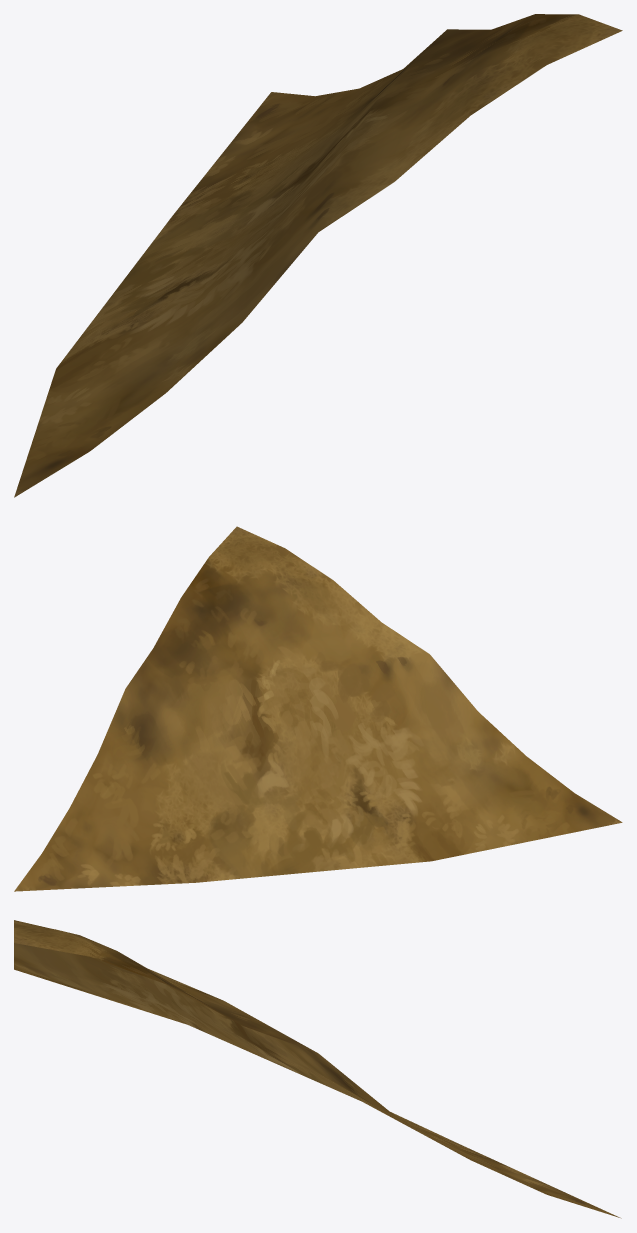
Rendered from Slope_Corner_006.fbx.
3 views of the same model, one above another, from view 1: azimuth 30°, elevation 25°; view 2: azimuth 150°, elevation 25°; view 3: azimuth 270°, elevation 25° (orthographic). The views are drawn at different scales.
Visible parts, largest first — view 1: Slope_Corner_006; view 2: Slope_Corner_006; view 3: Slope_Corner_006.
Boxes of the visible parts, bbox=[...] form: Slope_Corner_006: bbox=[14, 14, 622, 497]; Slope_Corner_006: bbox=[14, 526, 622, 891]; Slope_Corner_006: bbox=[14, 920, 621, 1218].
Size of the model in its own units: 10 by 5.12 by 10.
1 material, 1 textured.
